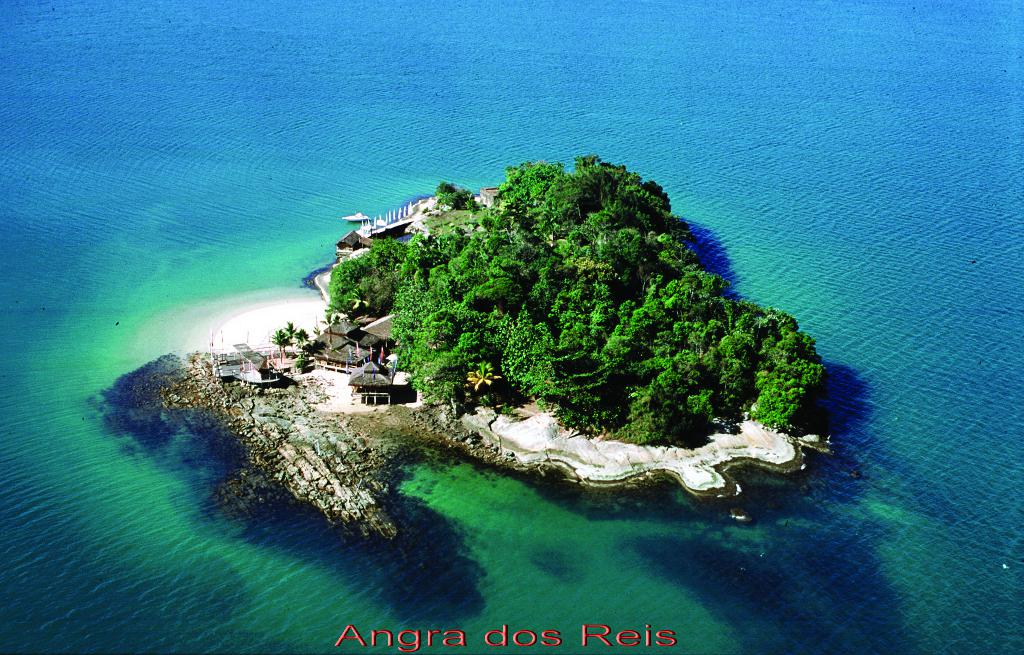Tree: (322, 151, 828, 443), (268, 328, 291, 361), (286, 317, 296, 347), (295, 328, 307, 347)
